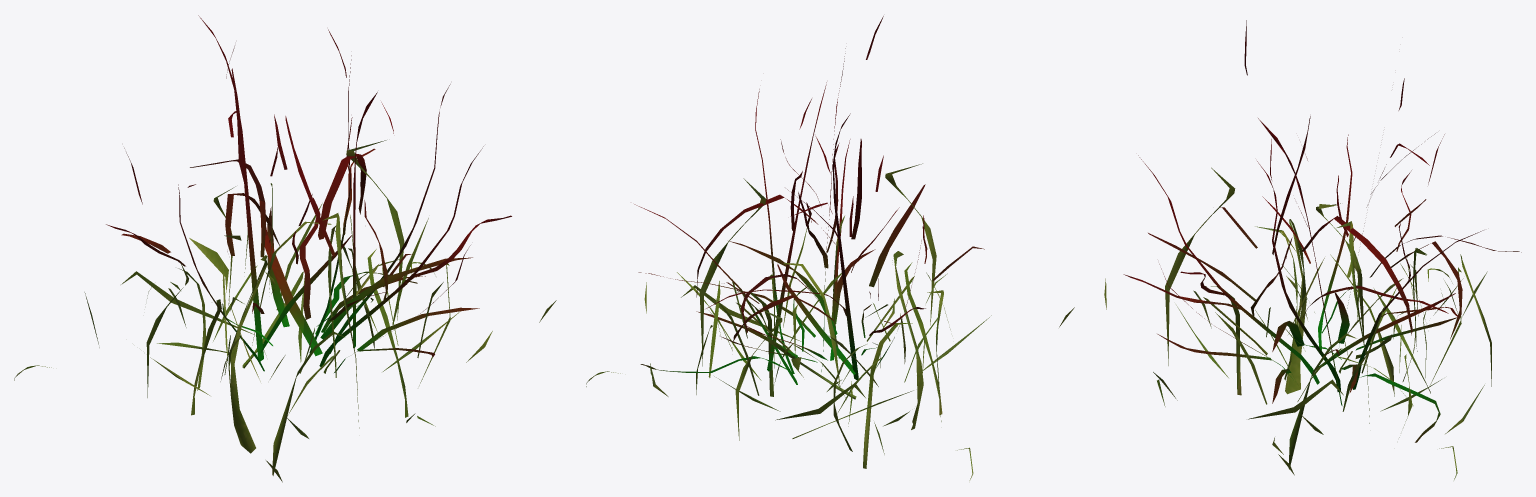
File: grass_wild_clump_dry_01_lod1.gltf
3 renders of one model, left to right at view 1: azimuth 30°, elevation 25°; view 2: azimuth 150°, elevation 25°; view 3: azimuth 270°, elevation 25°, orthographic. The views are drawn at different scales.
Parts seen in each view (by area): view 1: Grass Wild Clump Dry 01; view 2: Grass Wild Clump Dry 01; view 3: Grass Wild Clump Dry 01.
Part boxes in pixels (<box>): Grass Wild Clump Dry 01: <box>14,15,556,482</box>; Grass Wild Clump Dry 01: <box>586,16,1074,480</box>; Grass Wild Clump Dry 01: <box>1104,20,1521,479</box>.
Bounding box in the file's own units: 0.7698 × 0.7019 × 0.6504.
Materials: 1 (1 with a texture image).
